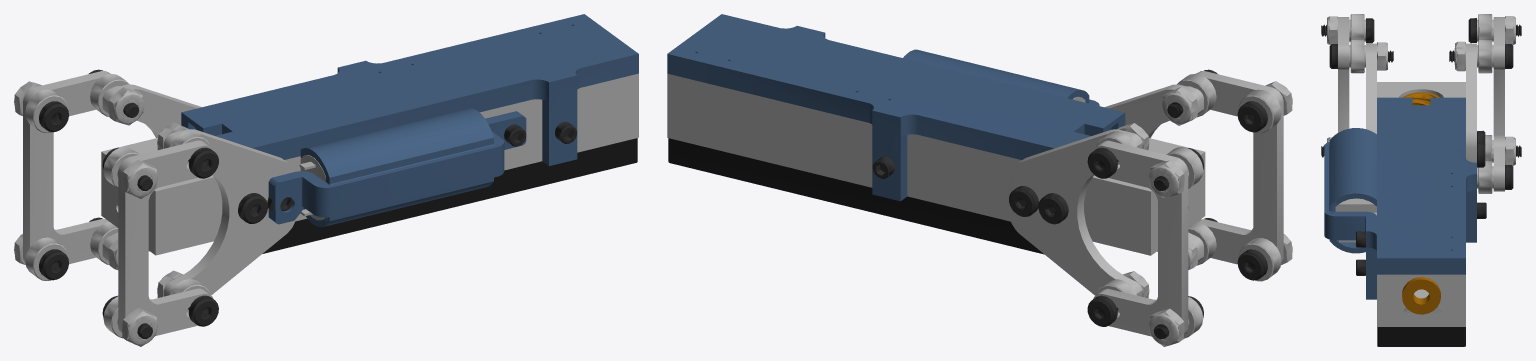
Rendered from arm_gripper.glb.
3 renders of one model, left to right at view 1: azimuth 30°, elevation 25°; view 2: azimuth 150°, elevation 25°; view 3: azimuth 270°, elevation 25°, orthographic. The views are drawn at different scales.
Visible parts, largest first — view 1: 113652_A;1-MRVR26.RA.EE.CAM_FINGER; view 2: 113652_A;1-MRVR26.RA.EE.CAM_FINGER; view 3: 113652_A;1-MRVR26.RA.EE.CAM_FINGER.
Boxes of the visible parts, x1=… form: 113652_A;1-MRVR26.RA.EE.CAM_FINGER: x1=14, y1=14, x2=638, y2=346; 113652_A;1-MRVR26.RA.EE.CAM_FINGER: x1=667, y1=14, x2=1292, y2=346; 113652_A;1-MRVR26.RA.EE.CAM_FINGER: x1=1321, y1=14, x2=1521, y2=346.
Bounding box in the file's own units: 14.8 × 4.77 × 5.72.
